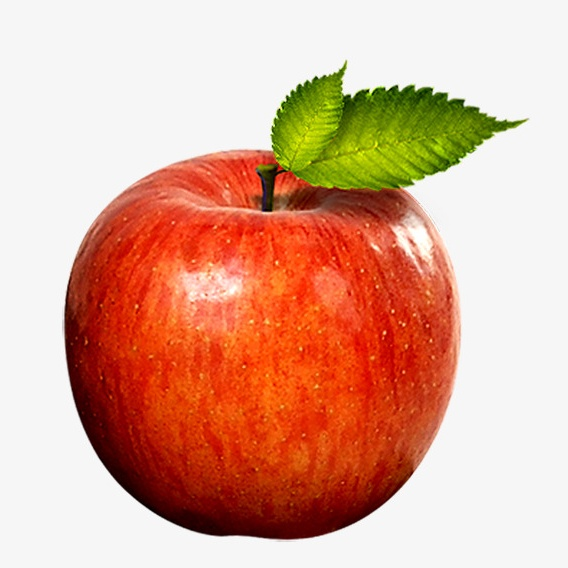apple: (57, 146, 463, 545)
